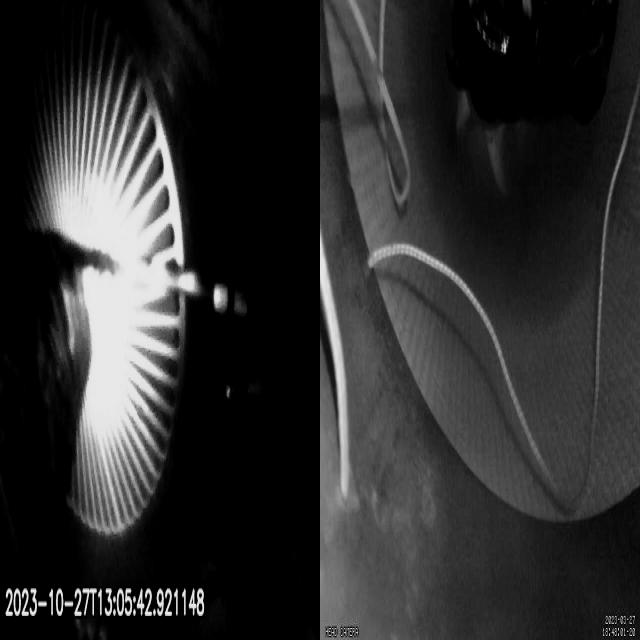white-dots: (212, 280, 266, 324)
